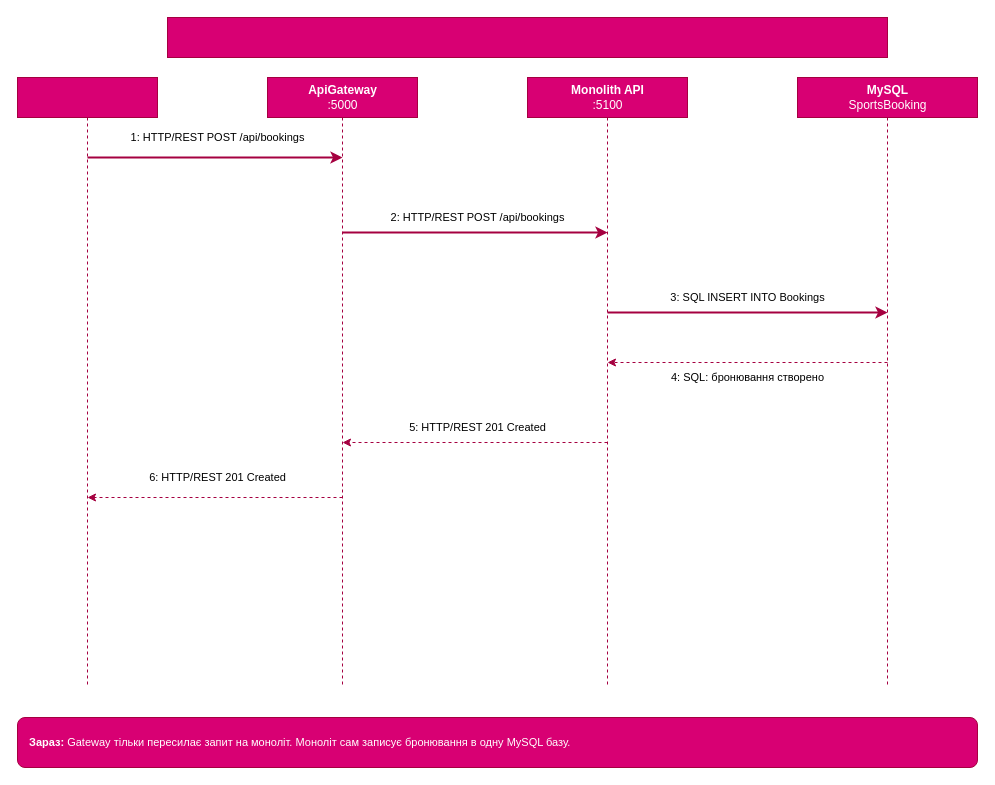
This 995x785 diagram has some shape labels left out. The shapes that lost their labels are listed below. From the top down, each one's box as (x1, y1, x2, y2) in pixels, then its label:
(166, 16, 888, 58): Діаграма послідовностей: Створення бронювання зараз (ЛР0)
(16, 76, 158, 688): Клієнт
